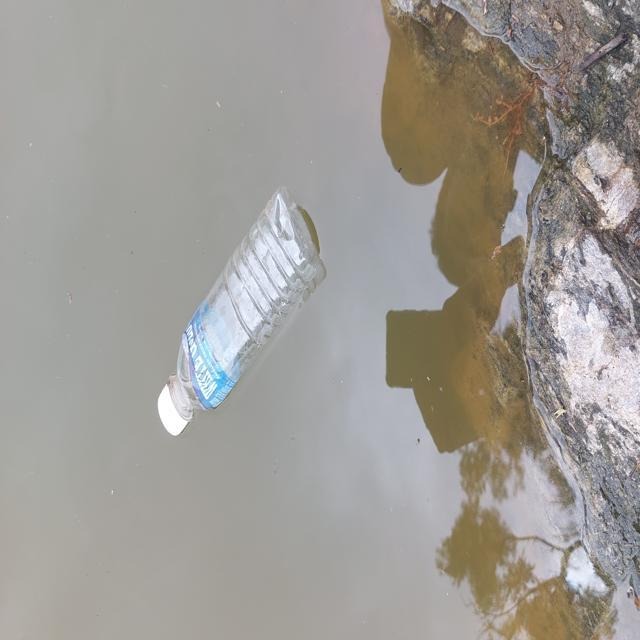waterbottle: (150, 189, 320, 452)
